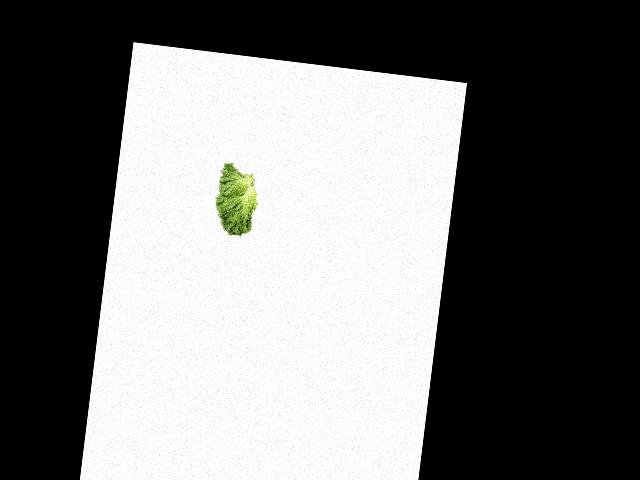lettuce: (206, 161, 264, 239)
